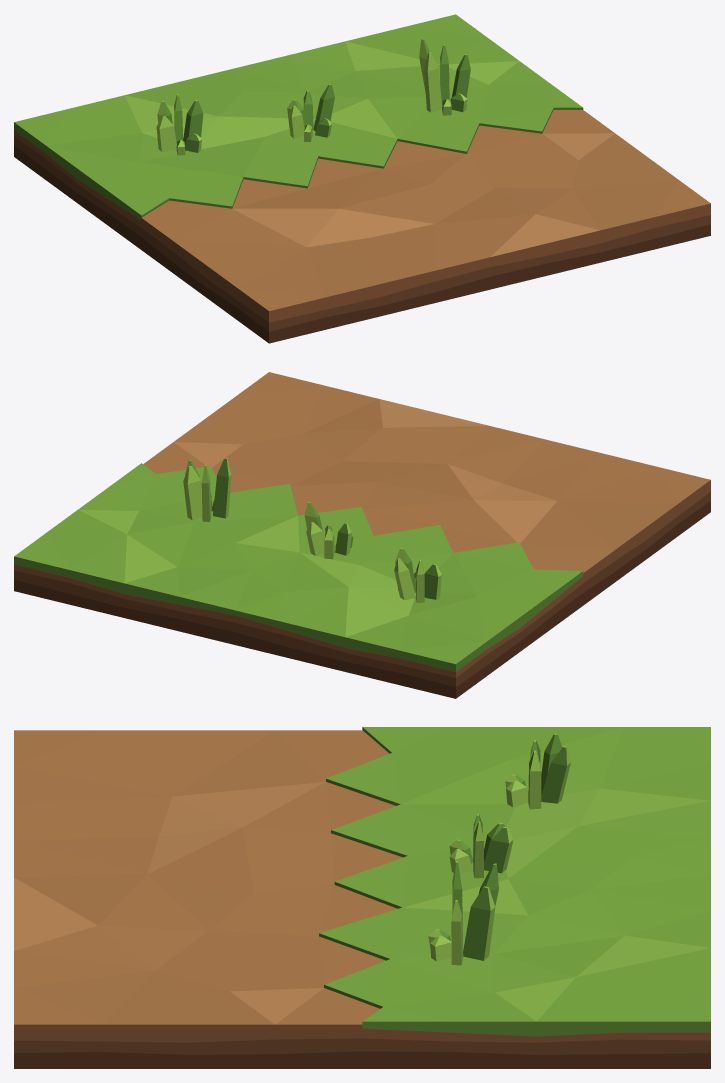
Rendered from FMS_Ground_Edge.fbx.
3 renders of one model, top to bottom at view 1: azimuth 30°, elevation 25°; view 2: azimuth 150°, elevation 25°; view 3: azimuth 270°, elevation 25°, orthographic. The views are drawn at different scales.
Visible parts, largest first — view 1: FMS_Ground_Edge; view 2: FMS_Ground_Edge; view 3: FMS_Ground_Edge.
Boxes of the visible parts, bbox=[...] form: FMS_Ground_Edge: bbox=[14, 14, 710, 343]; FMS_Ground_Edge: bbox=[14, 372, 710, 698]; FMS_Ground_Edge: bbox=[14, 727, 710, 1068].
Size of the model in its own units: 4 by 0.823 by 4.
